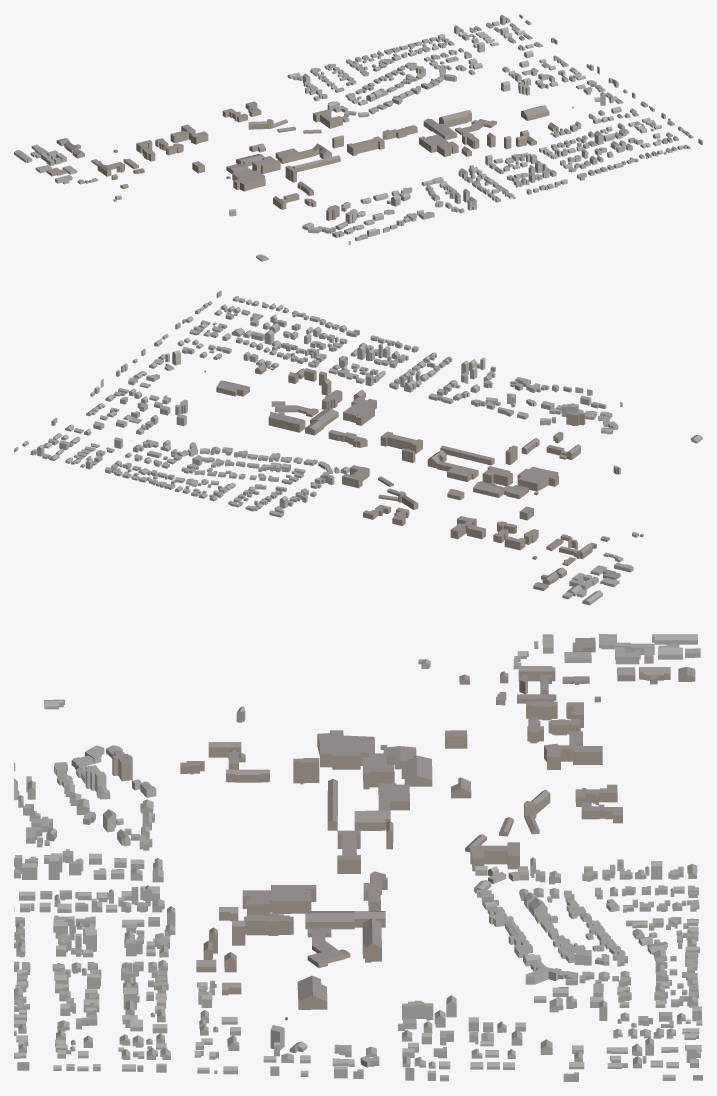
The model's file is reed_buildings.glb.
The picture shows the model from 3 angles, top to bottom: view 1: azimuth 30°, elevation 25°; view 2: azimuth 150°, elevation 25°; view 3: azimuth 270°, elevation 25°; orthographic projection. The views are drawn at different scales.
Parts seen in each view (by area): view 1: B_way_218153556, B_way_119843553, B_way_785269171, B_way_39516532, B_way_40877553; view 2: B_way_218153556, B_way_119843553, B_way_785269171, B_way_39516532, B_way_142983685, B_way_40877553; view 3: B_way_119843553, B_way_218153556, B_way_785269171, B_way_126856906, B_way_119843572, B_way_39516532, B_way_40877933, B_way_119846265, B_way_142983684, B_way_302430850, B_way_40877553, B_way_243997608 (+5 smaller).
Boxes of the visible parts, <box> form: B_way_218153556: <box>232,168,265,191</box>; B_way_119843553: <box>419,134,458,156</box>; B_way_785269171: <box>170,124,208,144</box>; B_way_39516532: <box>347,136,384,156</box>; B_way_40877553: <box>275,148,315,163</box>; B_way_218153556: <box>517,466,558,491</box>; B_way_119843553: <box>343,397,376,425</box>; B_way_785269171: <box>450,516,485,539</box>; B_way_39516532: <box>380,431,422,453</box>; B_way_142983685: <box>268,411,305,432</box>; B_way_40877553: <box>437,461,478,481</box>; B_way_119843553: <box>242,885,316,915</box>; B_way_218153556: <box>317,730,374,769</box>; B_way_785269171: <box>544,731,602,769</box>; B_way_126856906: <box>470,842,519,871</box>; B_way_119843572: <box>244,913,293,935</box>; B_way_39516532: <box>337,830,360,873</box>; B_way_40877933: <box>363,753,394,789</box>; B_way_119846265: <box>307,928,344,967</box>; B_way_142983684: <box>305,911,354,929</box>; B_way_302430850: <box>297,975,327,1009</box>; B_way_40877553: <box>378,783,409,810</box>; B_way_243997608: <box>401,755,432,786</box>.
Bounding box in the file's own units: 1273 × 64.34 × 795.
